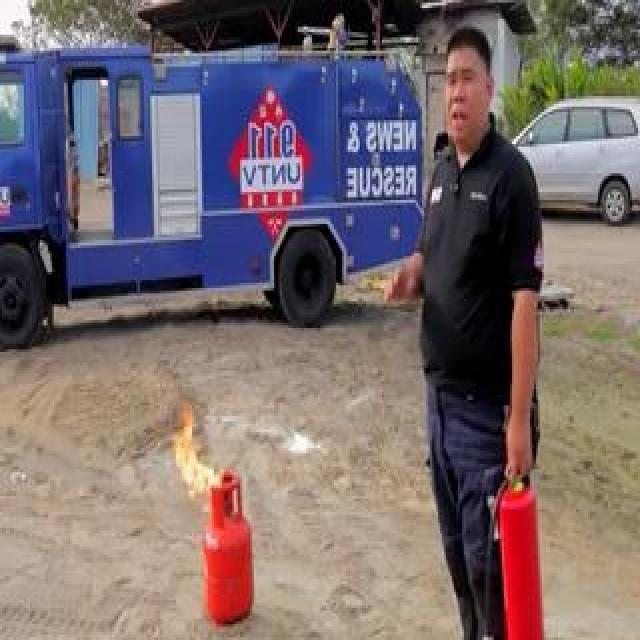Fire: (156, 408, 226, 504)
